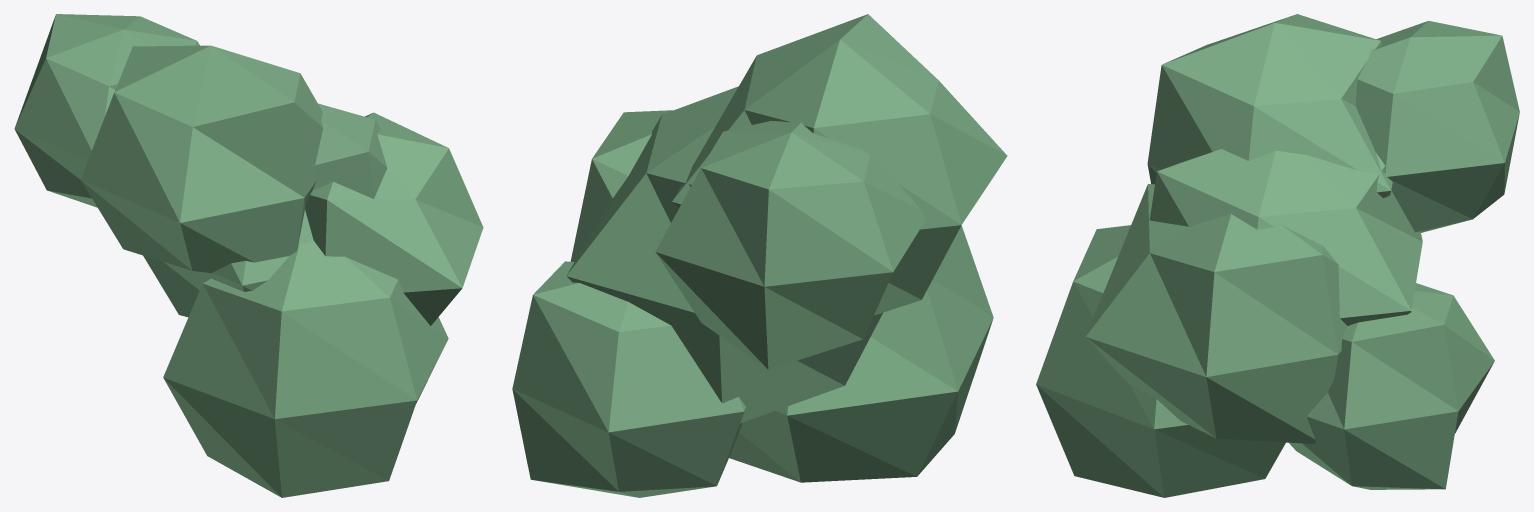
File: nature_bush_tall.glb
3 views of the same model, side by side, from view 1: azimuth 30°, elevation 25°; view 2: azimuth 150°, elevation 25°; view 3: azimuth 270°, elevation 25° (orthographic). The views are drawn at different scales.
Parts seen in each view (by area): view 1: world; view 2: world; view 3: world.
Part boxes in pixels (x1=…): world: x1=14, y1=14, x2=483, y2=497; world: x1=512, y1=14, x2=1007, y2=497; world: x1=1036, y1=14, x2=1519, y2=497.
Bounding box in the file's own units: 1.83 × 1.95 × 2.
